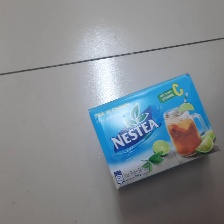Nestea: (87, 71, 221, 191)
